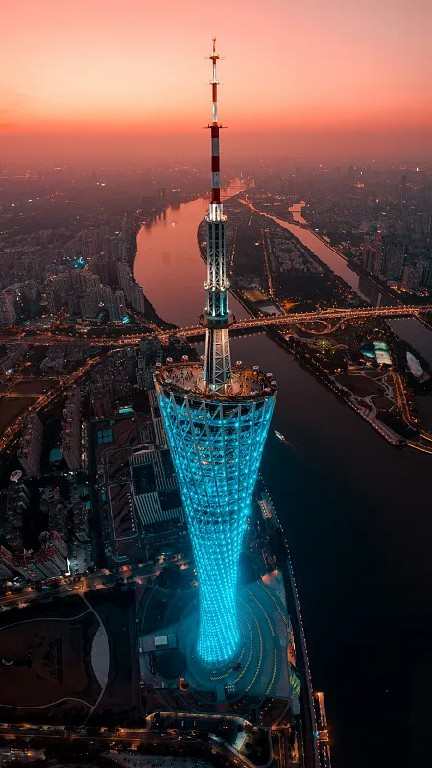Canton: (150, 35, 279, 684)
